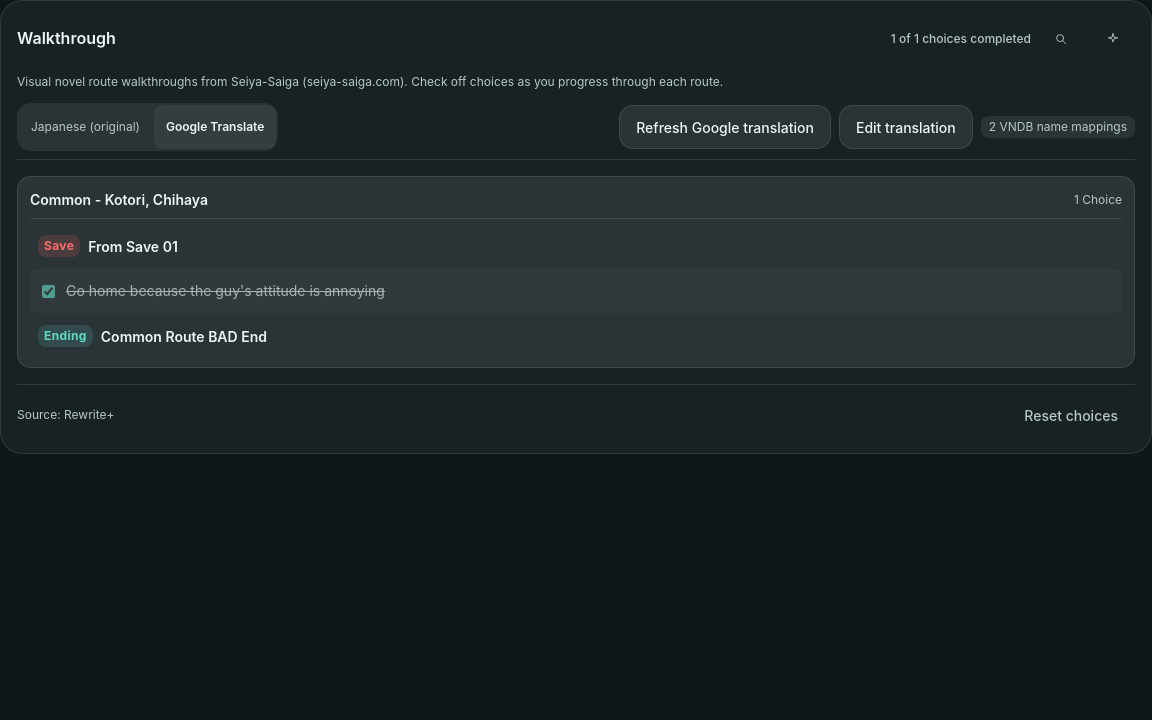
it: WalkthroughCard › edits text beside the original and saves a separate manual copy with checked choices
The width and height of the screenshot is (1152, 720).
Click the button "Edit translation" at (906, 127), box [839,105,973,149]
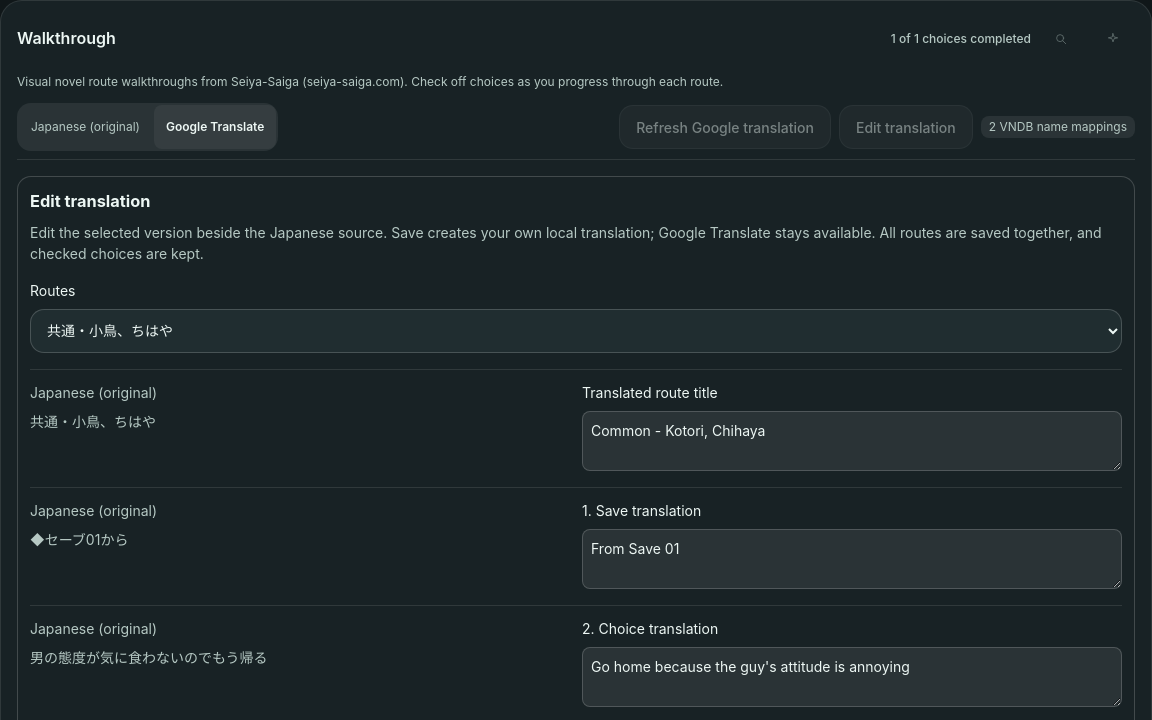
Check: the text "男の態度が気に食わないのでもう帰る" is shown, box [30,649,268,666]
Replace the text in the text box labelled "2. Choice translation" with "Leave because his attitude annoys you" at (852, 677), box [582,647,1122,707]
(page scrolled)
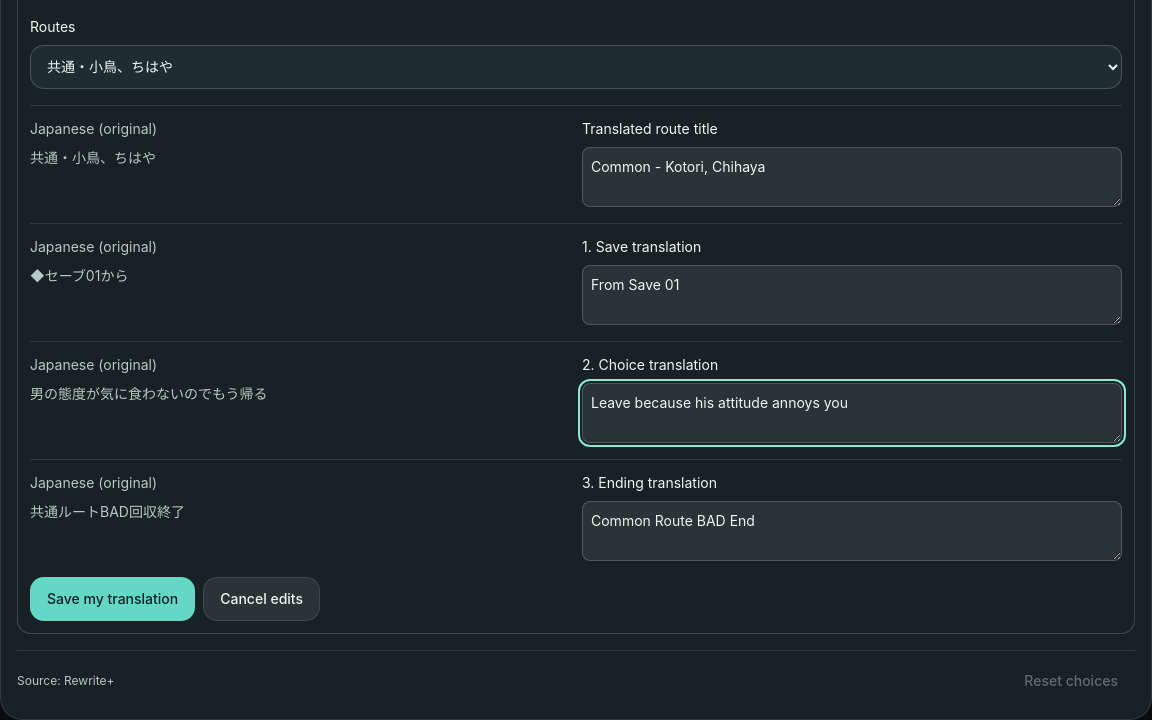
Click the button "Save my translation" at (113, 599), box [30,577,195,621]
(page scrolled)
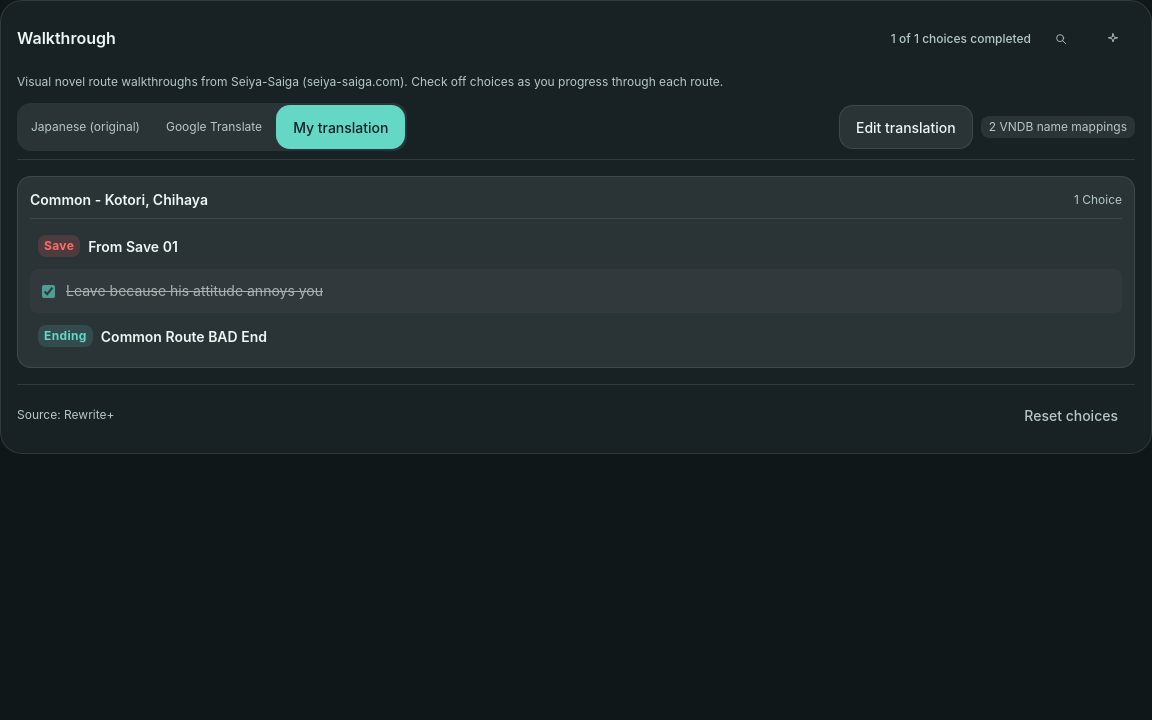
Check: the button "My translation" is shown, box [276,105,405,149]
Check: the text "Leave because his attitude annoys you" is shown, box [66,281,323,301]
Check: the checkbox is checked, box [42,284,55,298]
